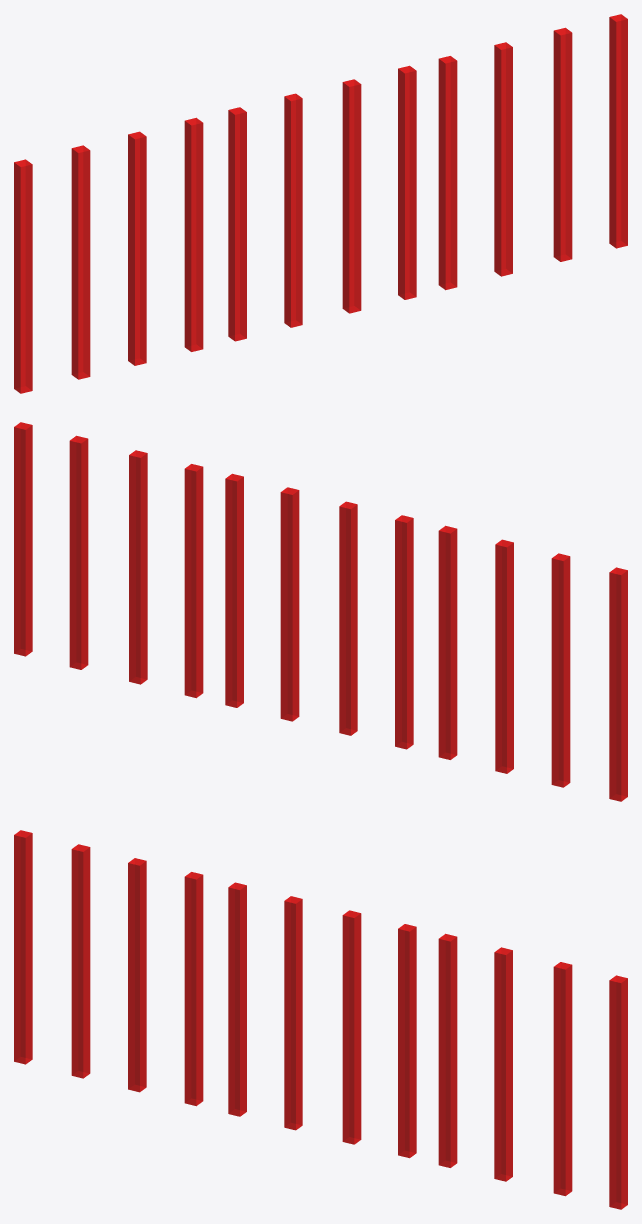
The model's file is belowBarriers.fbx.
3 renders of one model, top to bottom at view 1: azimuth 30°, elevation 25°; view 2: azimuth 150°, elevation 25°; view 3: azimuth 330°, elevation 25°, orthographic.
Parts seen in each view (by area): view 1: belowBarriers; view 2: belowBarriers; view 3: belowBarriers.
Part boxes in pixels (box(x1,y1,x2,y2)): belowBarriers: box(14, 14, 627, 393); belowBarriers: box(14, 422, 627, 801); belowBarriers: box(14, 830, 627, 1209).
Size of the model in its own units: 5162 by 1841 by 100.
